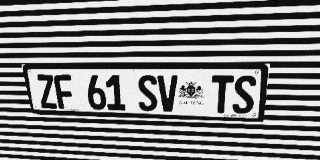1: (104, 75, 126, 110)
6: (85, 75, 107, 110)
F: (53, 75, 76, 109)
S: (232, 75, 257, 114), (137, 75, 158, 111)
T: (211, 75, 234, 113)
V: (157, 75, 178, 112)
Z: (35, 74, 58, 109)
